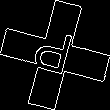P_S: (30, 26, 80, 84)
